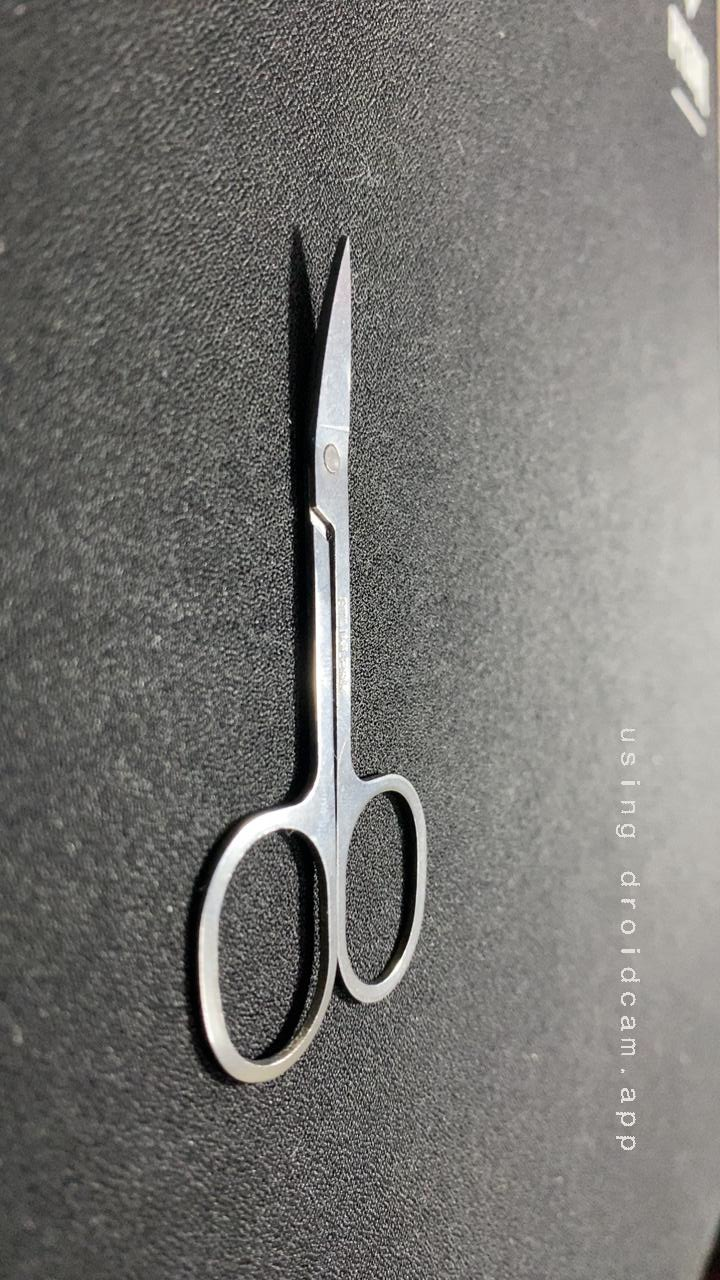scissor: (124, 541, 475, 1090)
